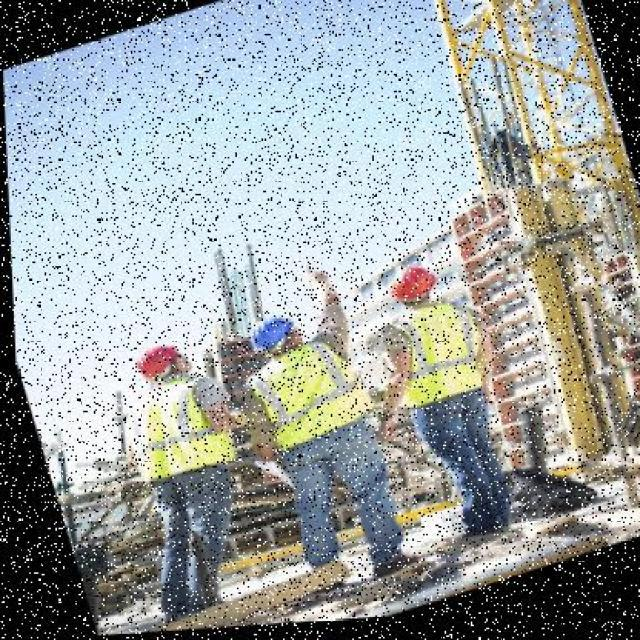helmet: (374, 260, 444, 319), (236, 310, 301, 367), (114, 337, 182, 389)
vest: (228, 326, 384, 470), (377, 296, 492, 422), (112, 372, 228, 494)
